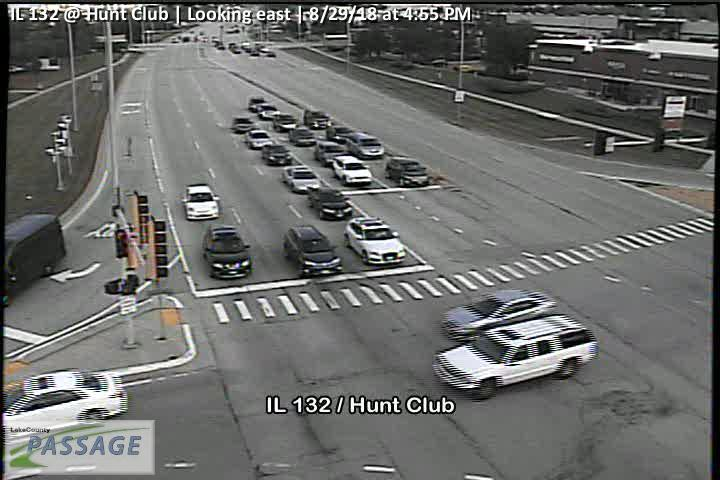SUV: (430, 313, 598, 400)
Sedan: (1, 371, 130, 433), (439, 288, 557, 344), (284, 224, 347, 278), (343, 215, 406, 267), (201, 224, 253, 279), (307, 185, 354, 220), (386, 156, 430, 188), (183, 184, 220, 221), (333, 155, 373, 186), (282, 163, 320, 192), (346, 131, 385, 159), (316, 139, 348, 164), (263, 143, 293, 165), (285, 126, 317, 145), (303, 109, 331, 129), (247, 126, 272, 148), (327, 124, 355, 141), (255, 101, 281, 119), (273, 112, 298, 130), (231, 114, 254, 131), (248, 96, 267, 111)
